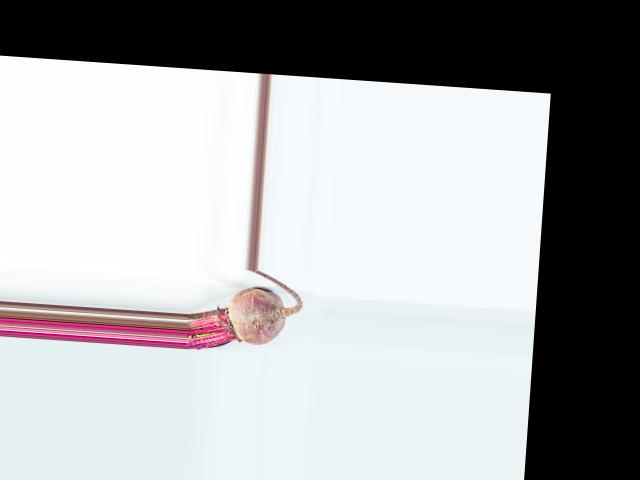beet: (185, 266, 304, 357)
